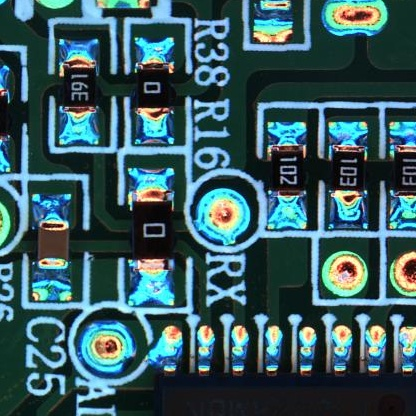spot: (78, 319, 136, 378), (192, 187, 252, 244), (318, 1, 390, 39), (319, 249, 370, 298), (389, 249, 416, 297)
